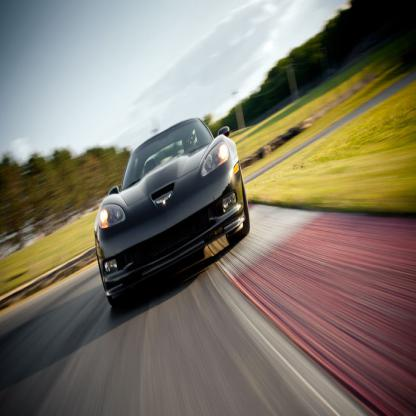Vehicle: (92, 114, 253, 319)
